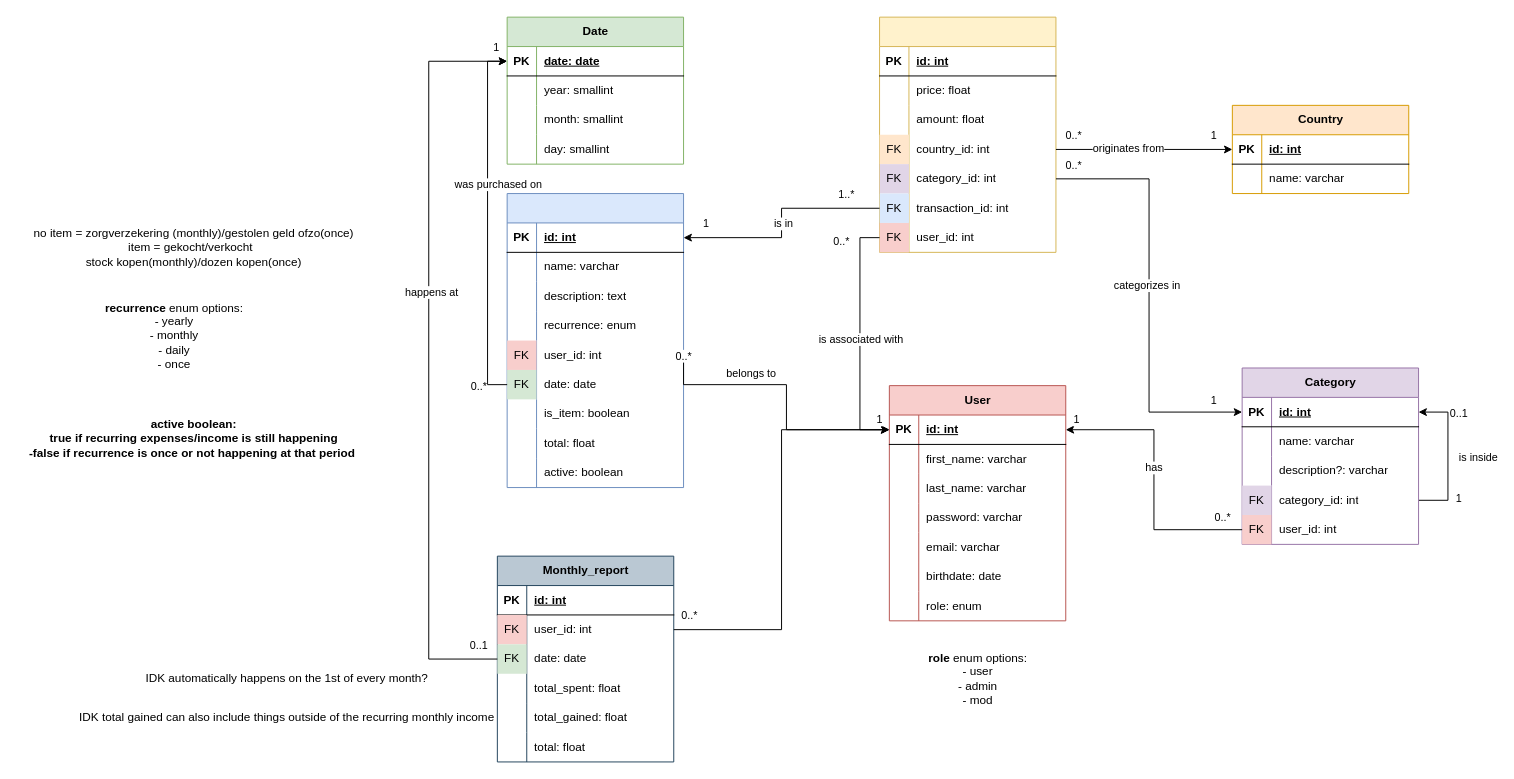
Some shapes in this 1514 by 779 pixel diagram are drawn without their labels. Here are the shapes that lost their labels. From the top down, the box of each, then its label:
(879, 16, 1056, 252): Item
(506, 193, 684, 488): Transaction
